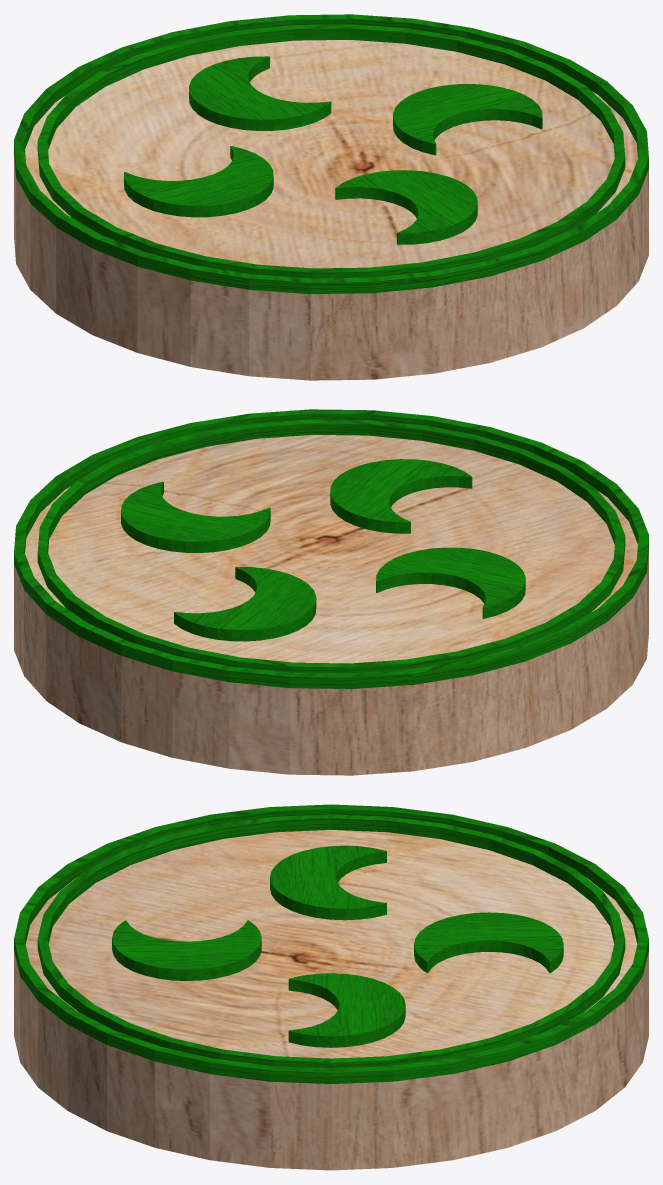
The model's file is Mondstein4.fbx.
3 renders of one model, top to bottom at view 1: azimuth 30°, elevation 25°; view 2: azimuth 150°, elevation 25°; view 3: azimuth 270°, elevation 25°, orthographic.
Parts seen in each view (by area): view 1: Mond4; view 2: Mond4; view 3: Mond4.
Boxes of the visible parts, box(x1,y1,x2,y2) form: Mond4: box(14, 14, 648, 380); Mond4: box(14, 409, 648, 775); Mond4: box(14, 804, 648, 1170).
Bounding box in the file's own units: 200 × 34 × 200.
